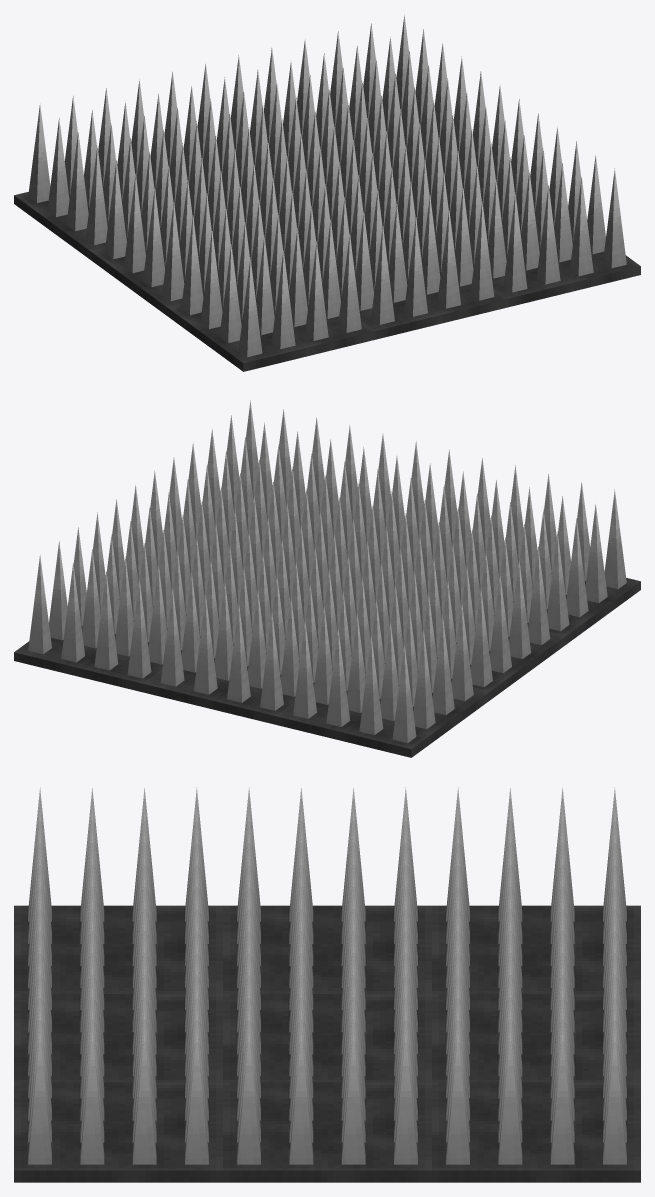
Rendered from spikes - merged.gltf.
The picture shows the model from 3 angles, top to bottom: view 1: azimuth 30°, elevation 25°; view 2: azimuth 150°, elevation 25°; view 3: azimuth 270°, elevation 25°; orthographic projection. The views are drawn at different scales.
Visible parts, largest first — view 1: pyramid; view 2: pyramid; view 3: pyramid.
Part boxes in pixels (x1,y1,x2,y2): pyramid: [14, 14, 640, 371]; pyramid: [14, 400, 640, 757]; pyramid: [14, 787, 640, 1182].
Size of the model in its own units: 3 by 0.75 by 3.
2 materials, 2 textured.
